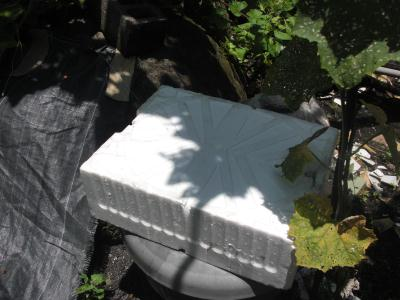styrofoam: (75, 81, 341, 293)
